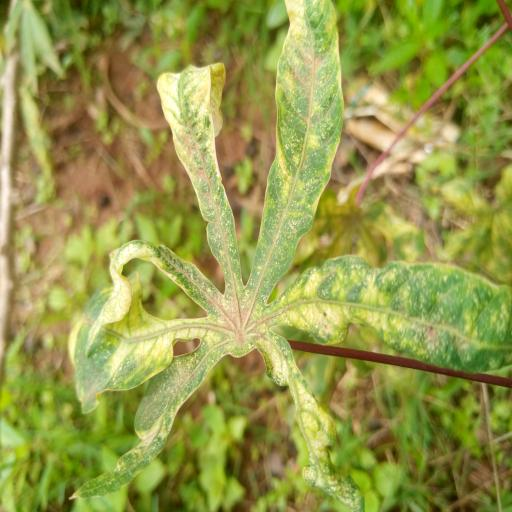Cassava_Mosaic: (67, 0, 512, 512)
